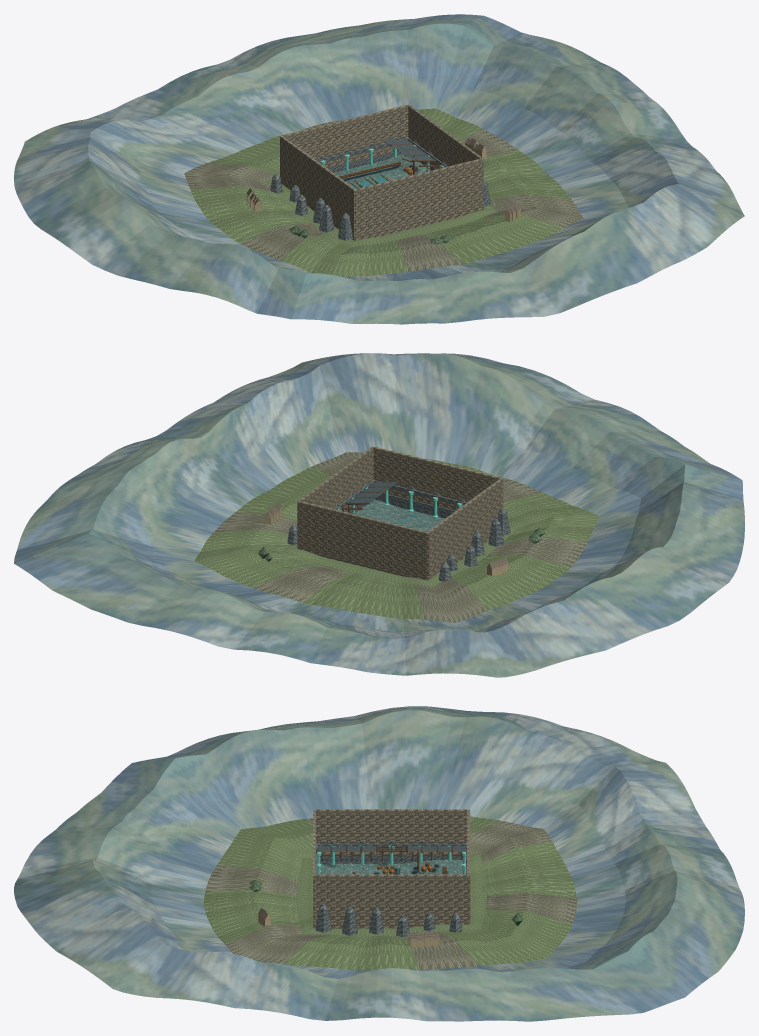
The model's file is ChainDock.fbx.
3 renders of one model, top to bottom at view 1: azimuth 30°, elevation 25°; view 2: azimuth 150°, elevation 25°; view 3: azimuth 270°, elevation 25°, orthographic. The views are drawn at different scales.
Visible parts, largest first — view 1: Surroundings, C_Solids, Rim, Horizon, Terrain, Set; view 2: Surroundings, C_Solids, Rim, Horizon, Terrain; view 3: Surroundings, C_Solids, Rim, Horizon, Terrain.
Boxes of the visible parts, x1,y1,x2,y2 form: Surroundings: [14, 14, 744, 324]; C_Solids: [280, 104, 483, 240]; Rim: [316, 137, 447, 172]; Horizon: [270, 174, 490, 240]; Terrain: [334, 154, 426, 187]; Set: [339, 155, 417, 188]; Surroundings: [14, 353, 744, 677]; C_Solids: [297, 446, 503, 580]; Rim: [334, 480, 466, 518]; Horizon: [287, 508, 510, 581]; Terrain: [355, 499, 444, 531]; Surroundings: [14, 706, 744, 1021]; C_Solids: [313, 809, 470, 928]; Rim: [316, 841, 467, 874]; Horizon: [316, 861, 462, 936]; Terrain: [320, 859, 463, 874].
Size of the model in its own units: 19256 by 2152 by 19340.
